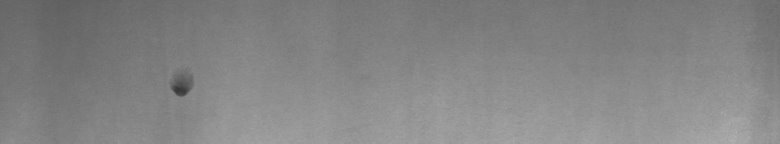fi: (167, 76, 196, 104)
